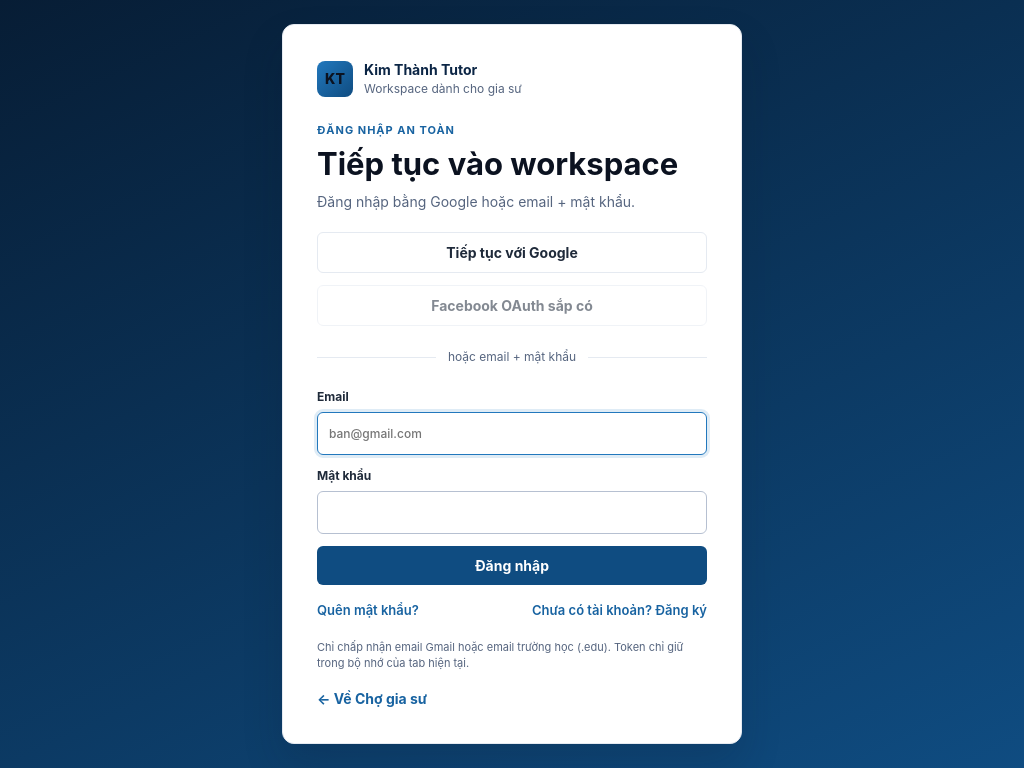
Test: LoginPage email + password › shows a generic error for wrong credentials
The width and height of the screenshot is (1024, 768).
Type "p@gmail.com" into the field labelled "Email" at (512,434), box left=317, top=412, right=707, bottom=455
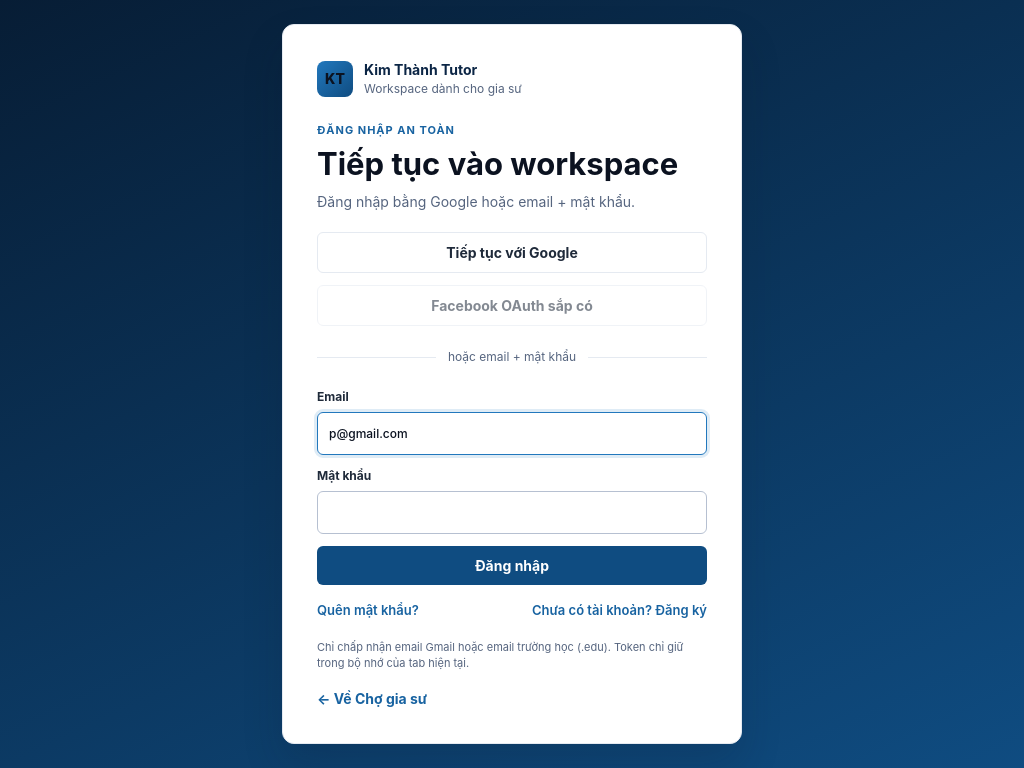
Type "wrong-password" into the password field labelled "Mật khẩu" at (512,513), box left=317, top=491, right=707, bottom=534
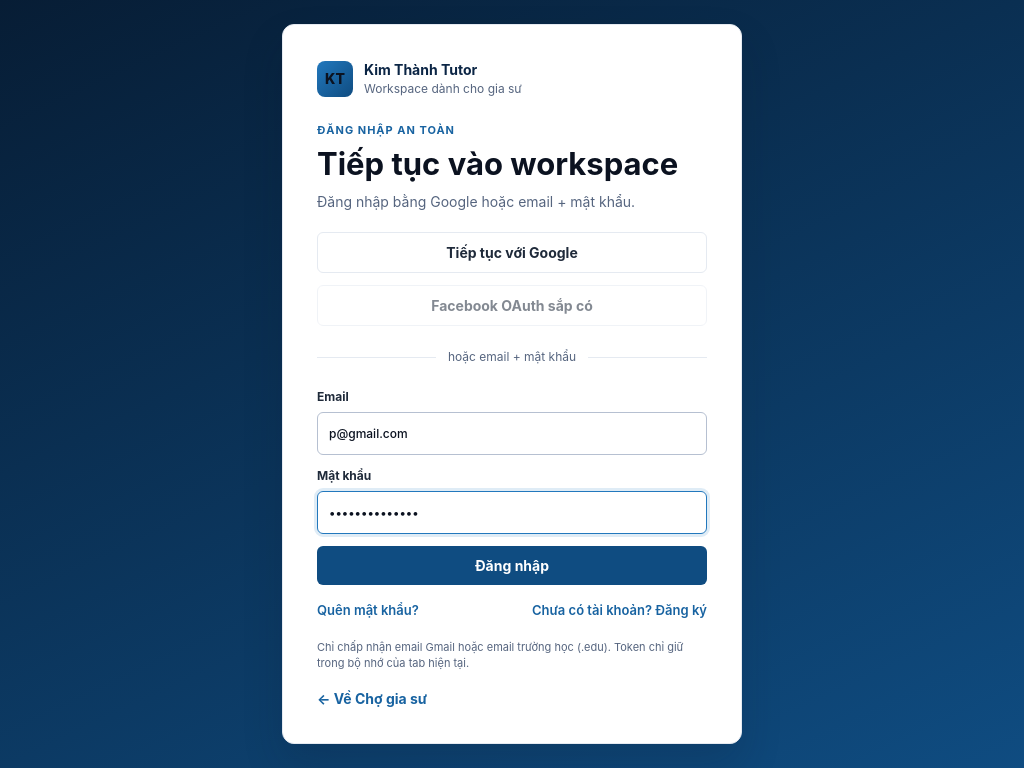
Click the button "Đăng nhập" at (512,566), box left=317, top=546, right=707, bottom=585
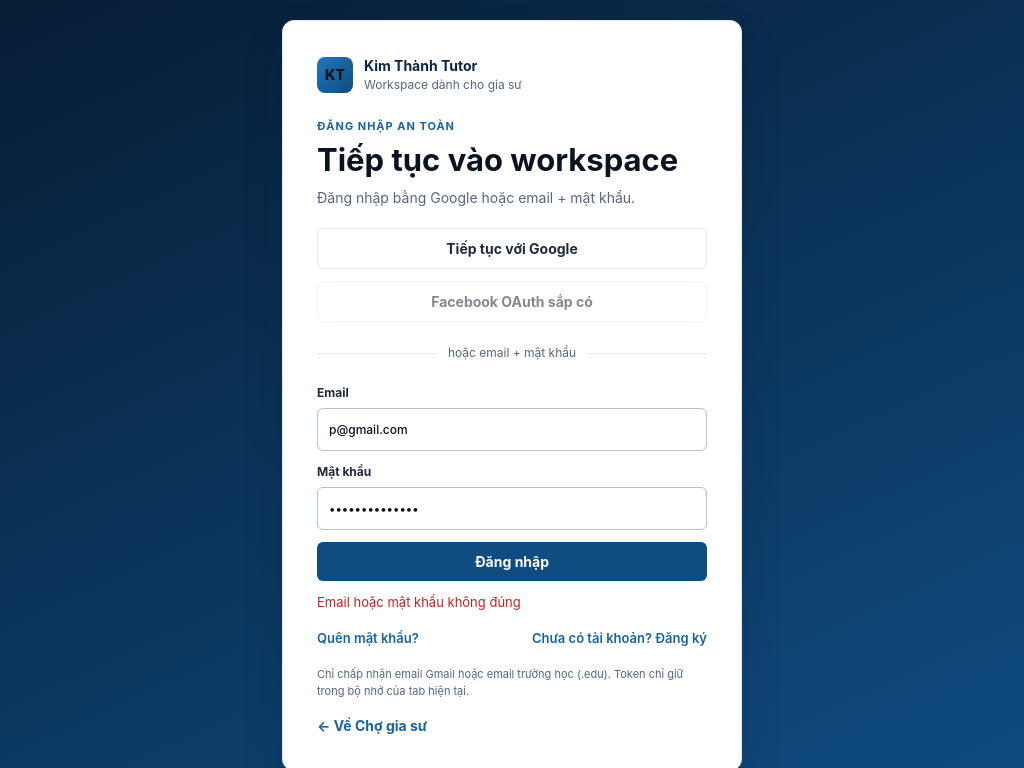
expect the message shows "không đúng": met, box left=317, top=594, right=521, bottom=610
